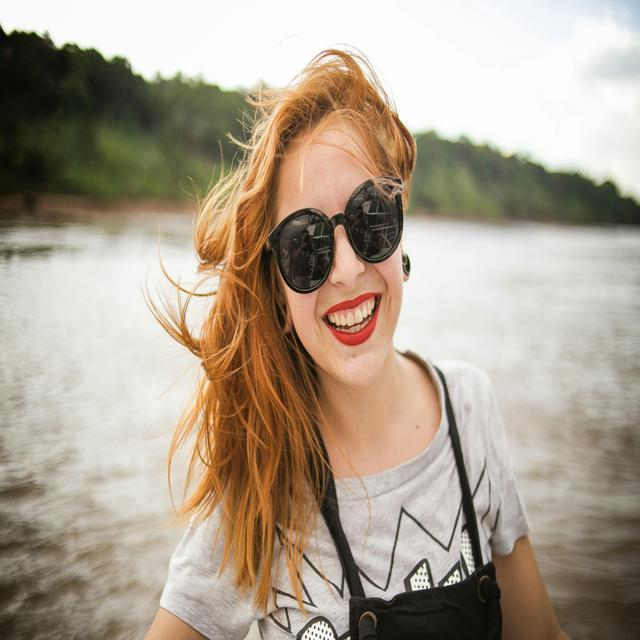2_gafas: (264, 174, 406, 294)
